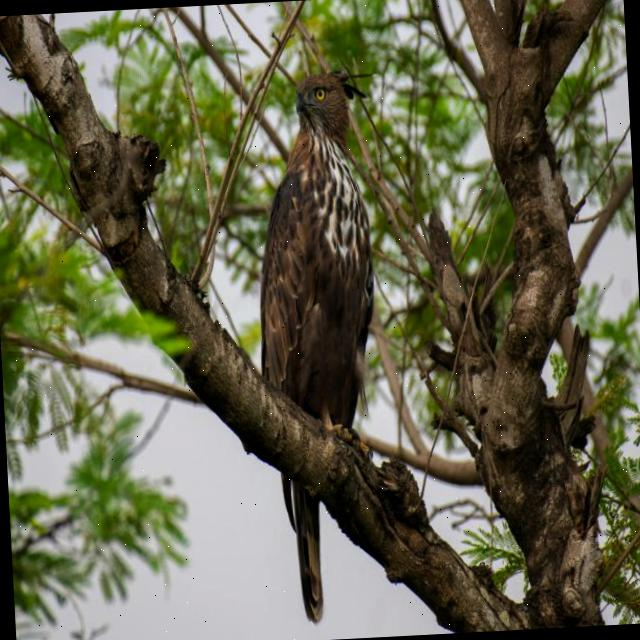Elang Jawa: (218, 48, 423, 640)
